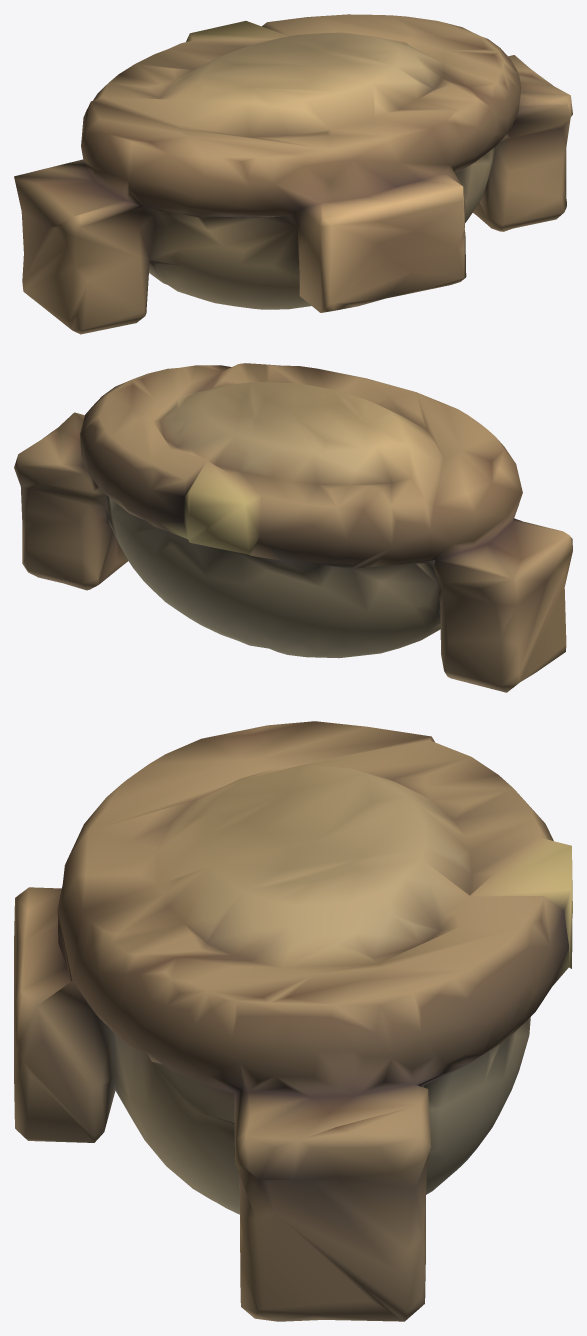
File: hero_pelvis.glb
3 renders of one model, top to bottom at view 1: azimuth 30°, elevation 25°; view 2: azimuth 150°, elevation 25°; view 3: azimuth 270°, elevation 25°, orthographic. The views are drawn at different scales.
Visible parts, largest first — view 1: geometry_0; view 2: geometry_0; view 3: geometry_0.
Boxes of the visible parts, x1=… form: geometry_0: x1=14, y1=14, x2=572, y2=334; geometry_0: x1=14, y1=363, x2=572, y2=692; geometry_0: x1=14, y1=721, x2=572, y2=1321.
Bounding box in the file's own units: 0.4805 × 0.205 × 0.298.
